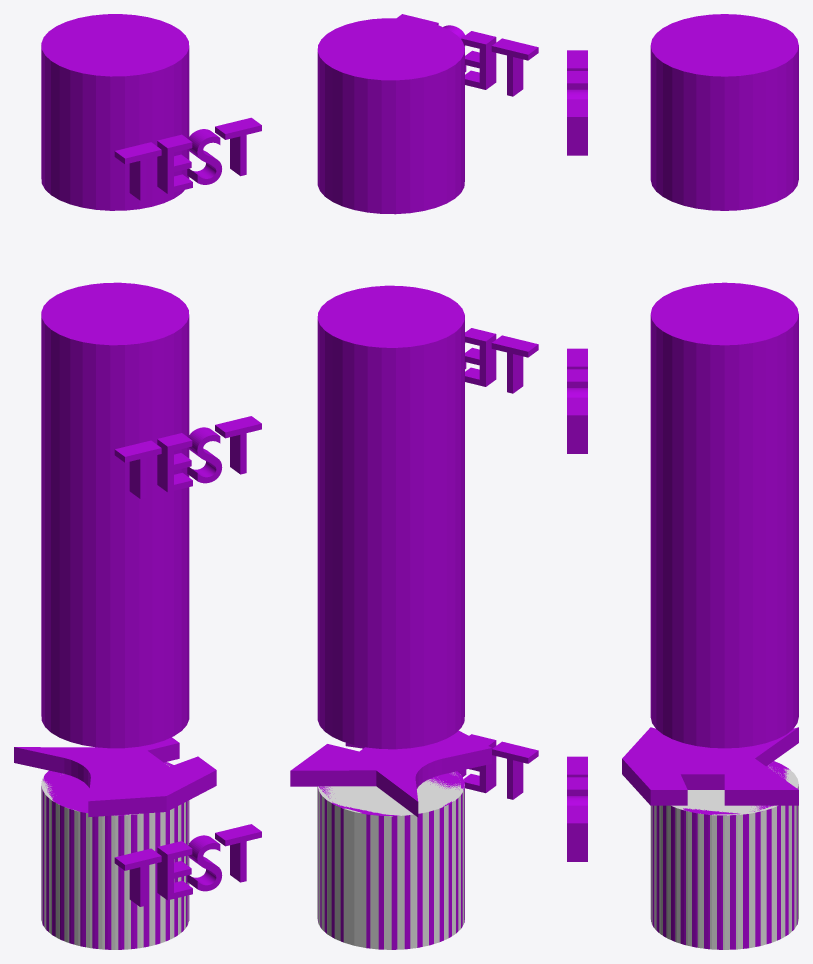
The picture shows the model from 3 angles, left to right: view 1: azimuth 30°, elevation 25°; view 2: azimuth 150°, elevation 25°; view 3: azimuth 270°, elevation 25°; orthographic projection.
Visible parts, largest first — view 1: Text.002, Cylinder.006, Text.001; view 2: Text.002, Cylinder.006, Text.001; view 3: Text.002, Cylinder.006, Text.001.
Boxes of the visible parts, x1,y1,x2,y2 form: Text.002: (41,14,261,949); Cylinder.006: (41,764,188,949); Text.001: (14,737,216,817); Text.002: (317,14,538,949); Cylinder.006: (317,772,464,949); Text.001: (290,730,491,817); Text.002: (567,14,798,949); Cylinder.006: (650,765,798,949); Text.001: (622,727,798,805).
Bounding box in the file's own units: 2.13 × 13 × 3.13.
